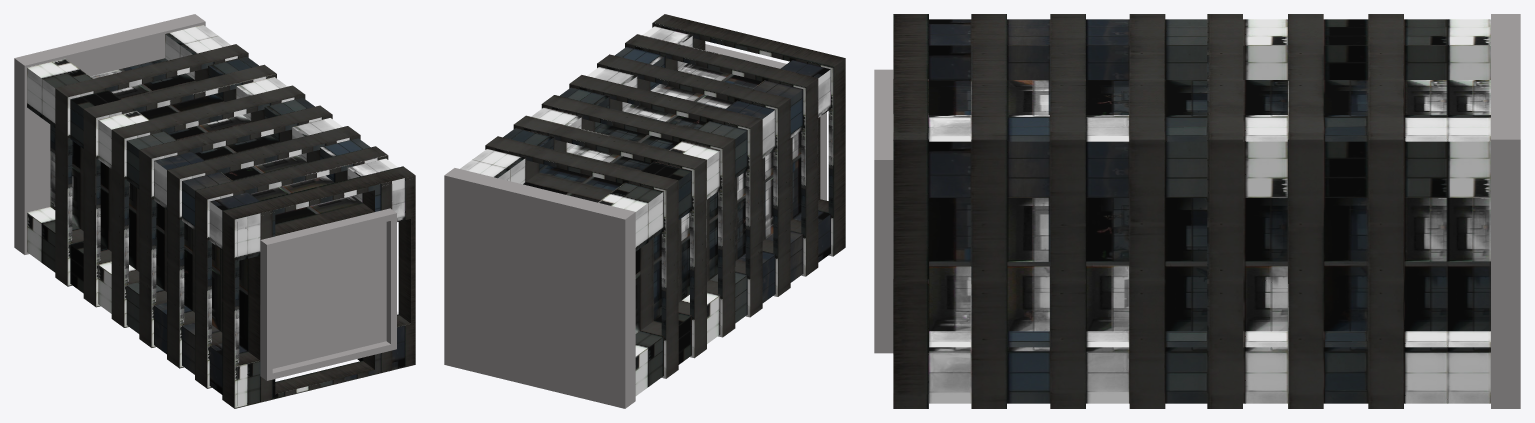
The model's file is 3010Real.obj.
3 views of the same model, side by side, from view 1: azimuth 30°, elevation 25°; view 2: azimuth 150°, elevation 25°; view 3: azimuth 270°, elevation 25° (orthographic). The views are drawn at different scales.
Visible parts, largest first — view 1: object_1, object_11, object_9, object_18, object_3, object_10, object_8, object_4, object_15, object_16, object_17, object_14 (+3 smaller); view 2: object_18, object_9, object_3, object_10, object_8, object_12, object_15, object_14, object_13, object_17, object_11, object_16 (+2 smaller); view 3: object_5, object_8, object_7, object_9, object_14, object_11, object_12, object_13, object_15, object_16, object_17, object_4 (+2 smaller).
Boxes of the visible parts, x1,y1,x2,y2 form: object_1: (260,208,396,380); object_11: (222,166,415,408); object_9: (27,58,275,261); object_18: (14,14,205,254); object_3: (50,125,260,360); object_10: (27,207,275,405); object_8: (165,25,413,221); object_4: (90,58,374,236); object_15: (111,85,305,327); object_16: (83,64,276,307); object_17: (55,44,248,286); object_14: (139,105,332,347); object_18: (444,168,635,408); object_9: (598,60,830,251); object_3: (635,117,820,333); object_10: (635,199,830,395); object_8: (460,26,705,184); object_12: (625,34,818,276); object_15: (541,95,735,337); object_14: (569,75,762,317); object_13: (597,54,790,296); object_17: (485,136,678,378); object_11: (652,14,845,256); object_16: (513,115,706,358); object_5: (929,198,1490,331); object_8: (929,115,1490,197); object_7: (929,331,1490,403); object_9: (929,19,1490,79); object_14: (1129,14,1165,408); object_11: (893,14,928,408); object_12: (971,14,1006,408); object_13: (1050,14,1085,408); object_15: (1207,14,1242,408); object_16: (1288,14,1323,408); object_17: (1368,14,1403,408); object_4: (929,80,1490,114).
Size of the model in its own units: 3.19 by 3.19 by 6.95.
